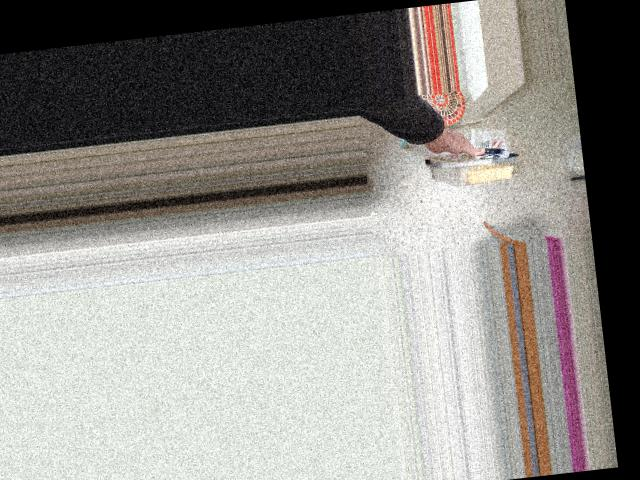cheese: (413, 93, 520, 197)
